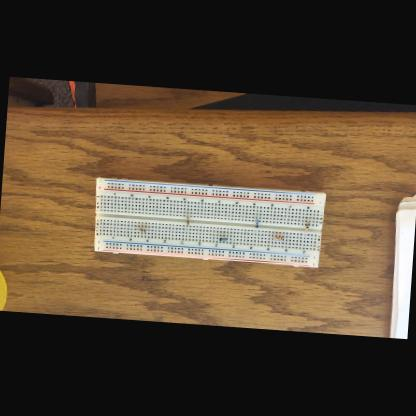breadboard: (90, 176, 326, 268)
resistor: (184, 217, 190, 226), (304, 223, 310, 231), (138, 228, 146, 232), (274, 237, 282, 241), (254, 220, 258, 228), (218, 238, 226, 242)
wire: (226, 238, 234, 240), (307, 218, 310, 223), (255, 214, 258, 219), (254, 228, 256, 235), (283, 238, 287, 240), (146, 230, 149, 232), (211, 238, 216, 239), (186, 226, 187, 230), (186, 212, 187, 216), (134, 230, 138, 231), (304, 231, 305, 235), (270, 238, 274, 239)
